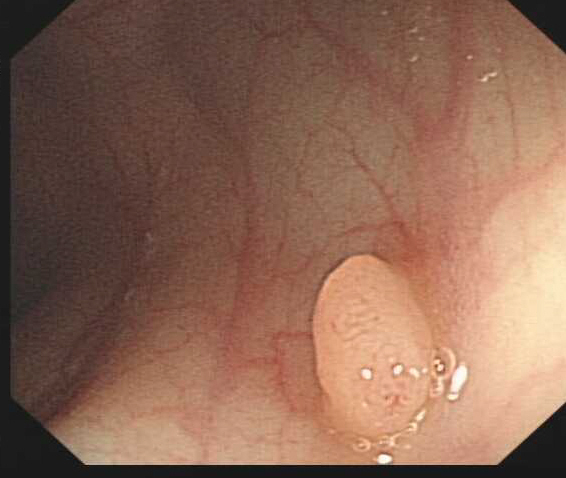others: (308, 252, 442, 445)
